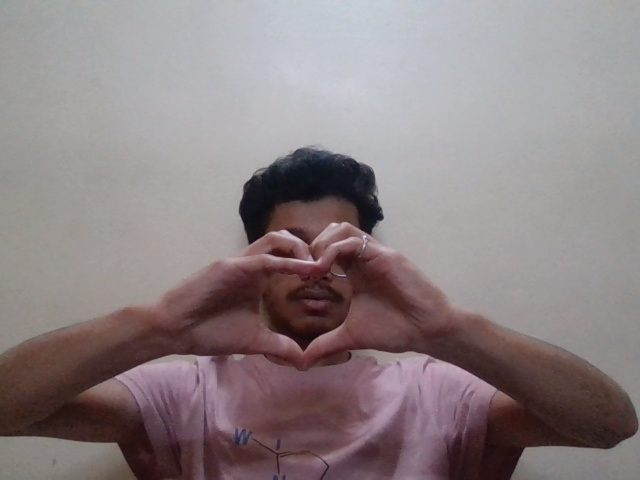silent-voice: (169, 222, 418, 389)
